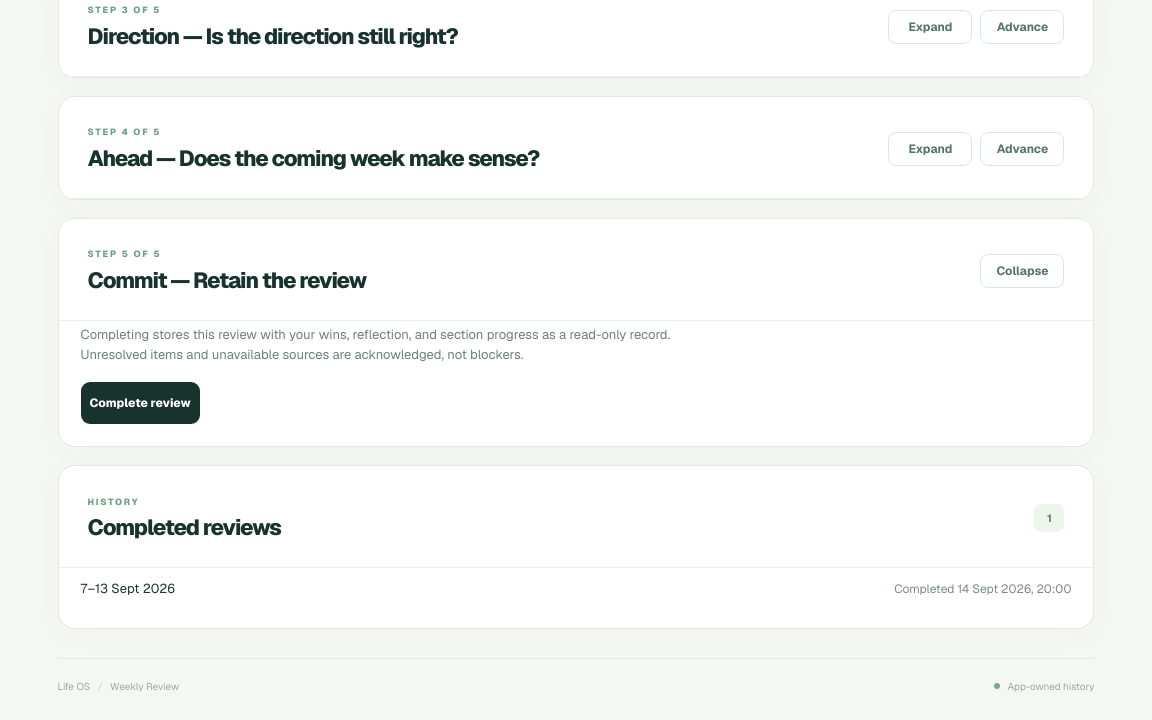
Scenario: Guided weekly review › completes the review and shows the completed state
(page scrolled)
What coordinates should you click on to do the following:
click the button "Complete review"
I would click on:
 (140, 403)
Its box is [81,382,200,424].
(page scrolled)
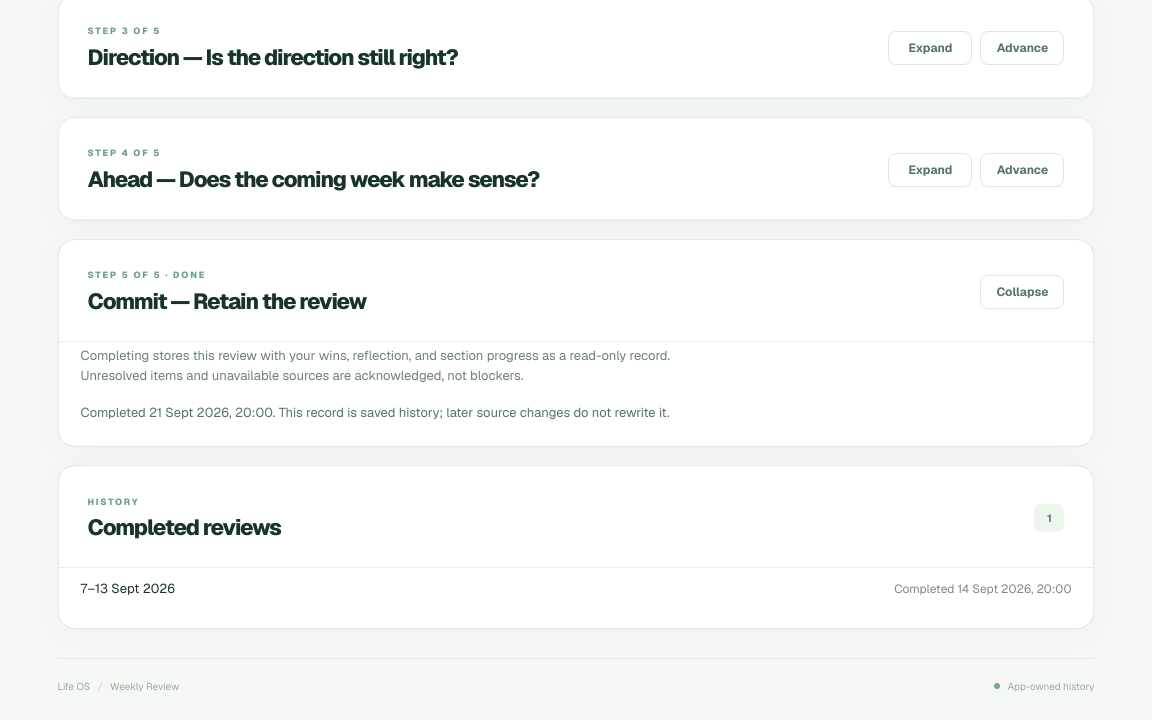
Expected: the text "saved history" is shown, [273,404,670,421]
